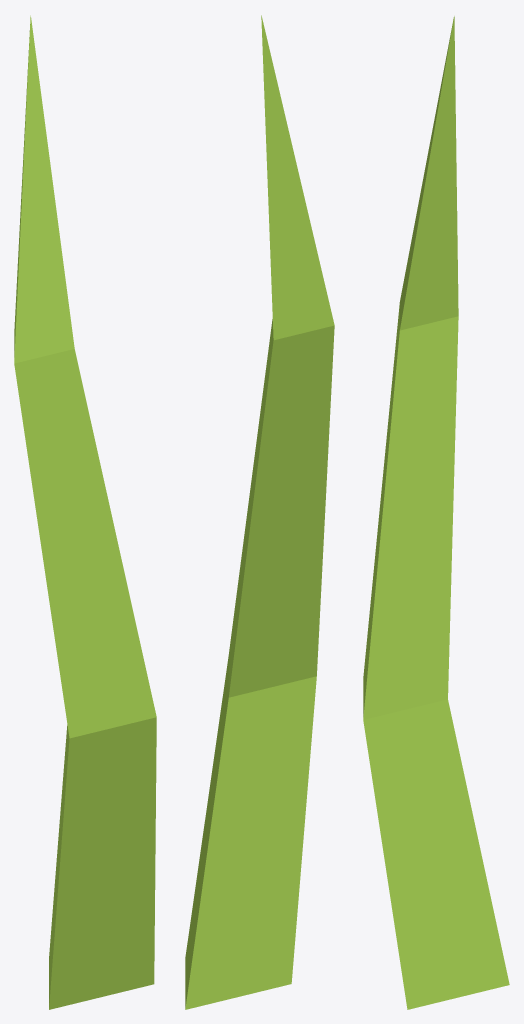
The model's file is blade.fbx.
3 views of the same model, side by side, from view 1: azimuth 30°, elevation 25°; view 2: azimuth 150°, elevation 25°; view 3: azimuth 270°, elevation 25° (orthographic). The views are drawn at different scales.
Parts seen in each view (by area): view 1: Blade; view 2: Blade; view 3: Blade.
Part boxes in pixels (bbox=[...]): Blade: bbox=[14, 15, 156, 1009]; Blade: bbox=[185, 15, 334, 1009]; Blade: bbox=[363, 16, 509, 1009].
Size of the model in its own units: 3.43 by 22.25 by 3.11.
